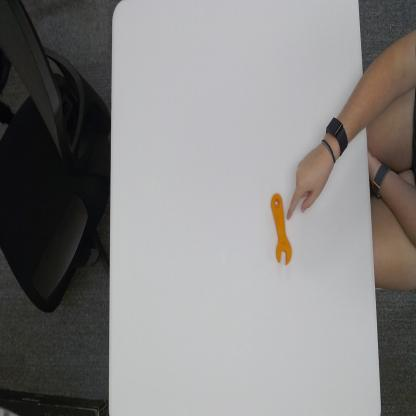Hand: (287, 140, 335, 220)
Screwdriver: (268, 190, 293, 272)
